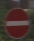No entry: (5, 6, 29, 36)
